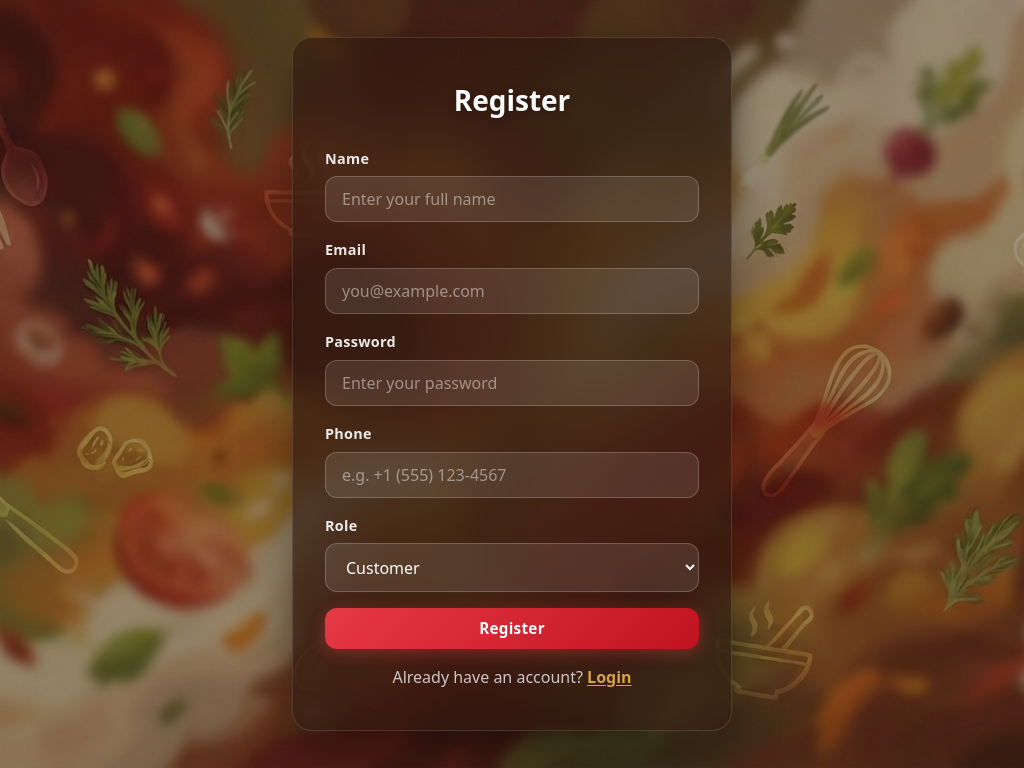
Test: Register › shows email validation error for invalid email
In the field with placeholder "you@example.com": (512, 291) [325, 268, 699, 314], type "not-email"
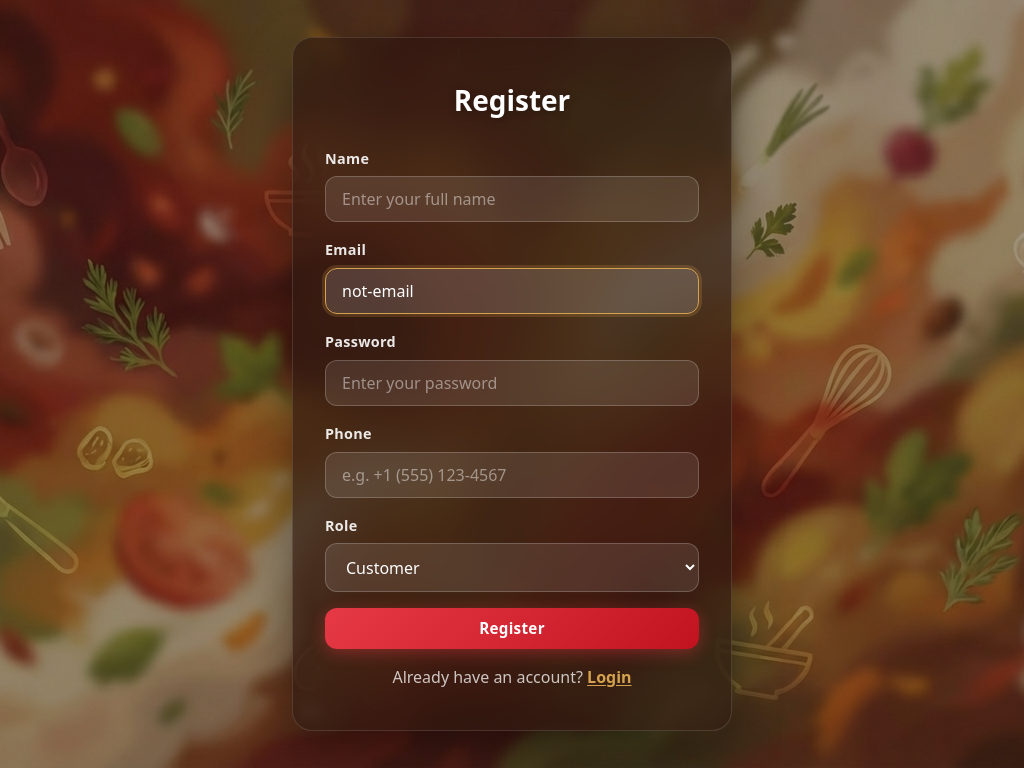
Press Tab
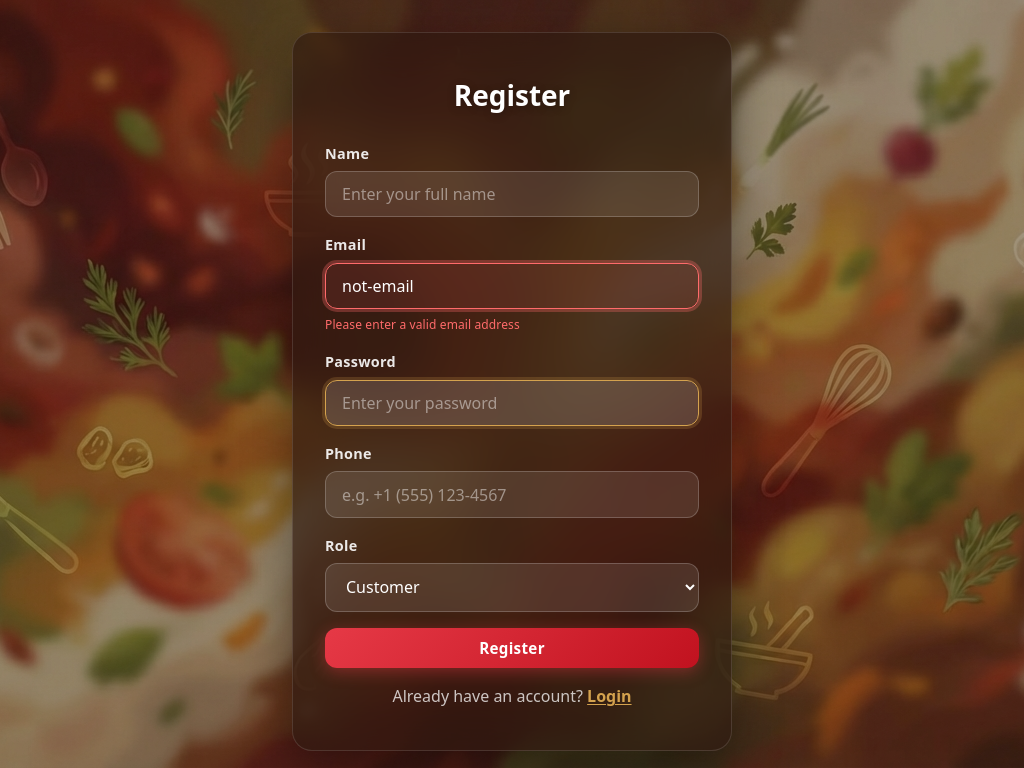
Now the text "Please enter a valid email address" is shown, box [325, 316, 520, 333]
